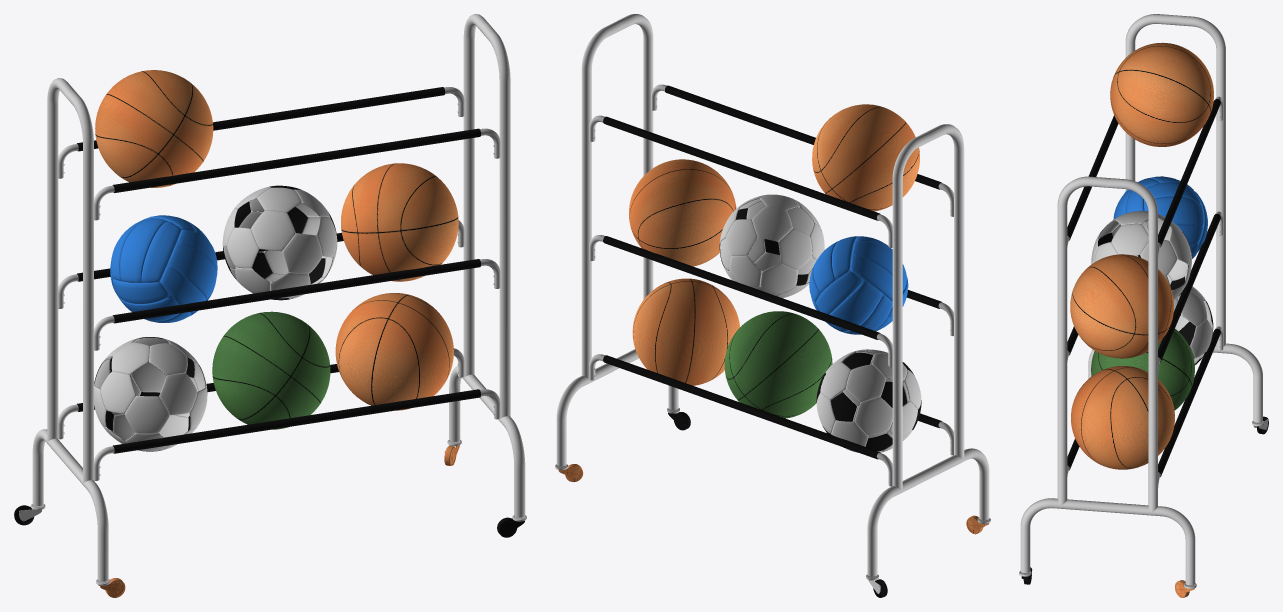
File: shelf_with_balls__3d_model___uv.obj
3 views of the same model, side by side, from view 1: azimuth 30°, elevation 25°; view 2: azimuth 150°, elevation 25°; view 3: azimuth 270°, elevation 25° (orthographic). The views are drawn at different scales.
Visible parts, largest first — view 1: obj4, obj1, obj6, obj2, obj5, obj3, obj7; view 2: obj4, obj1, obj6, obj2, obj5, obj3, obj7; view 3: obj4, obj1, obj6, obj2, obj3, obj5, obj7.
Boxes of the visible parts, bbox=[...] form: obj4: bbox=[95, 70, 459, 597]; obj1: bbox=[19, 14, 526, 585]; obj6: bbox=[94, 186, 337, 451]; obj2: bbox=[14, 87, 524, 537]; obj5: bbox=[212, 311, 330, 429]; obj3: bbox=[110, 215, 217, 322]; obj7: bbox=[94, 185, 336, 451]; obj4: bbox=[558, 104, 989, 534]; obj1: bbox=[555, 14, 990, 593]; obj6: bbox=[719, 194, 921, 452]; obj2: bbox=[603, 85, 942, 597]; obj5: bbox=[724, 311, 832, 418]; obj3: bbox=[809, 236, 908, 334]; obj7: bbox=[719, 198, 921, 450]; obj4: bbox=[1070, 42, 1213, 597]; obj1: bbox=[1019, 14, 1268, 588]; obj6: bbox=[1091, 211, 1213, 363]; obj2: bbox=[1021, 99, 1268, 584]; obj3: bbox=[1113, 176, 1207, 258]; obj5: bbox=[1091, 329, 1194, 410]; obj7: bbox=[1098, 220, 1213, 365].
Bounding box in the file's own units: 0.9112 × 0.9827 × 0.5339.
7 materials, 2 textured.
